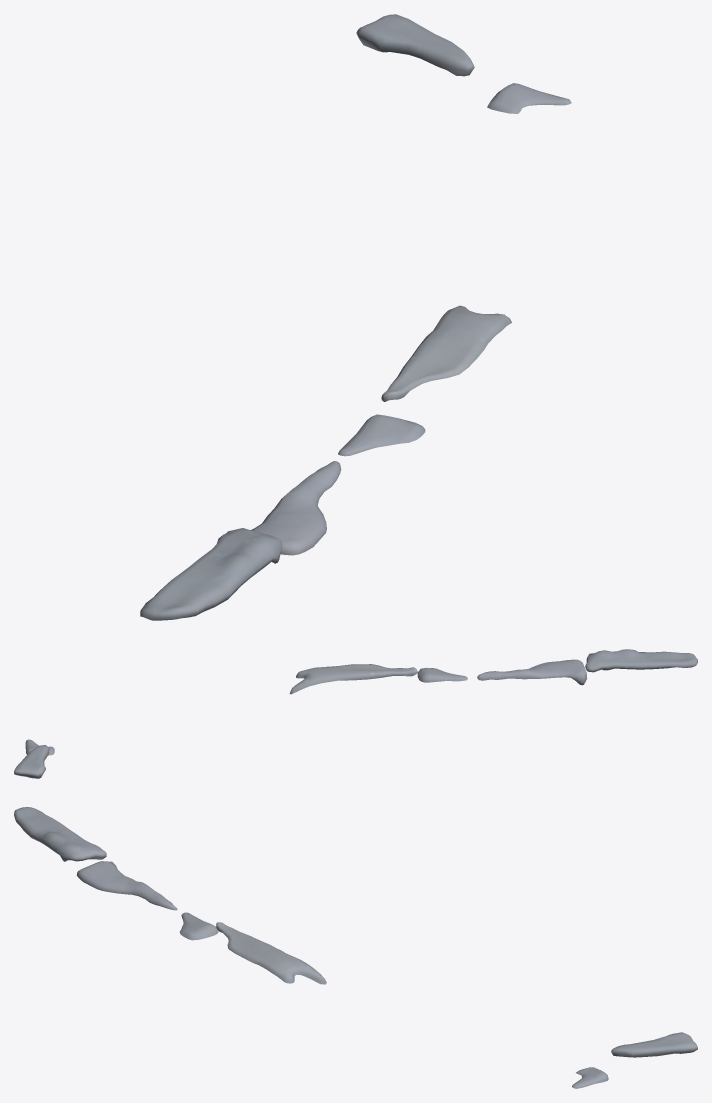
File: pref_sm_beach_winter_snow15_lv3.fbx
3 renders of one model, top to bottom at view 1: azimuth 30°, elevation 25°; view 2: azimuth 150°, elevation 25°; view 3: azimuth 270°, elevation 25°, orthographic. The views are drawn at different scales.
Parts seen in each view (by area): view 1: pref_sm_beach_winter_snow15_lv3; view 2: pref_sm_beach_winter_snow15_lv3; view 3: pref_sm_beach_winter_snow15_lv3.
Boxes of the visible parts, box(x1,y1,x2,y2) form: pref_sm_beach_winter_snow15_lv3: box(140, 14, 571, 620); pref_sm_beach_winter_snow15_lv3: box(14, 649, 697, 778); pref_sm_beach_winter_snow15_lv3: box(14, 807, 697, 1088).
Bounding box in the file's own units: 14.28 × 0.7794 × 15.96.
